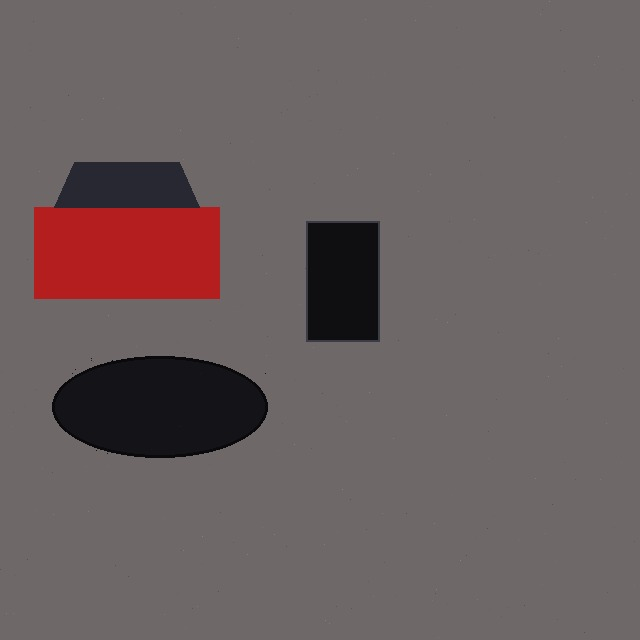phone: (306, 221, 452, 341)
pothole: (52, 356, 267, 457)
vehicle: (34, 162, 219, 298)
